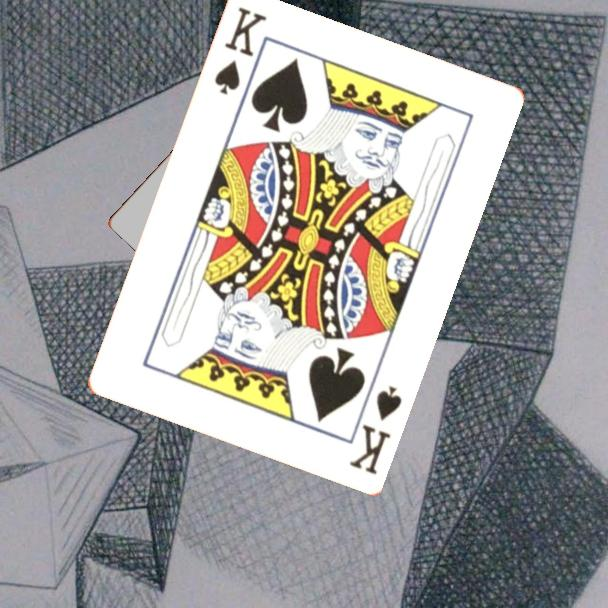s13: (345, 381, 405, 477), (210, 2, 269, 98)
